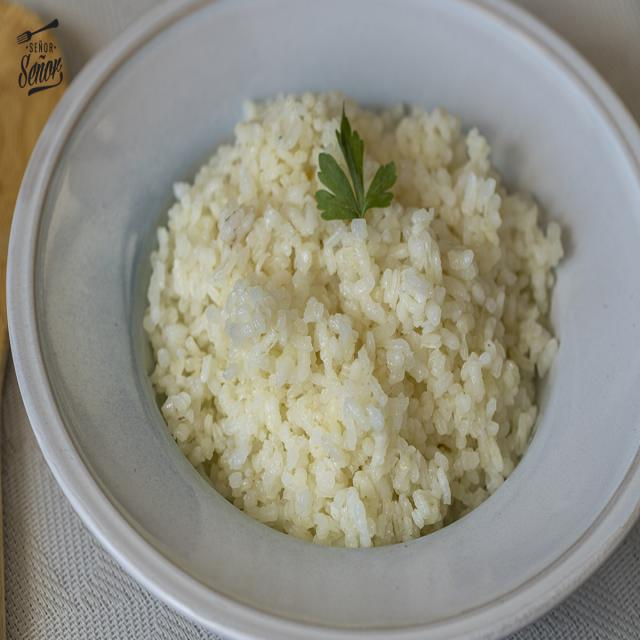arroz: (132, 51, 586, 580)
